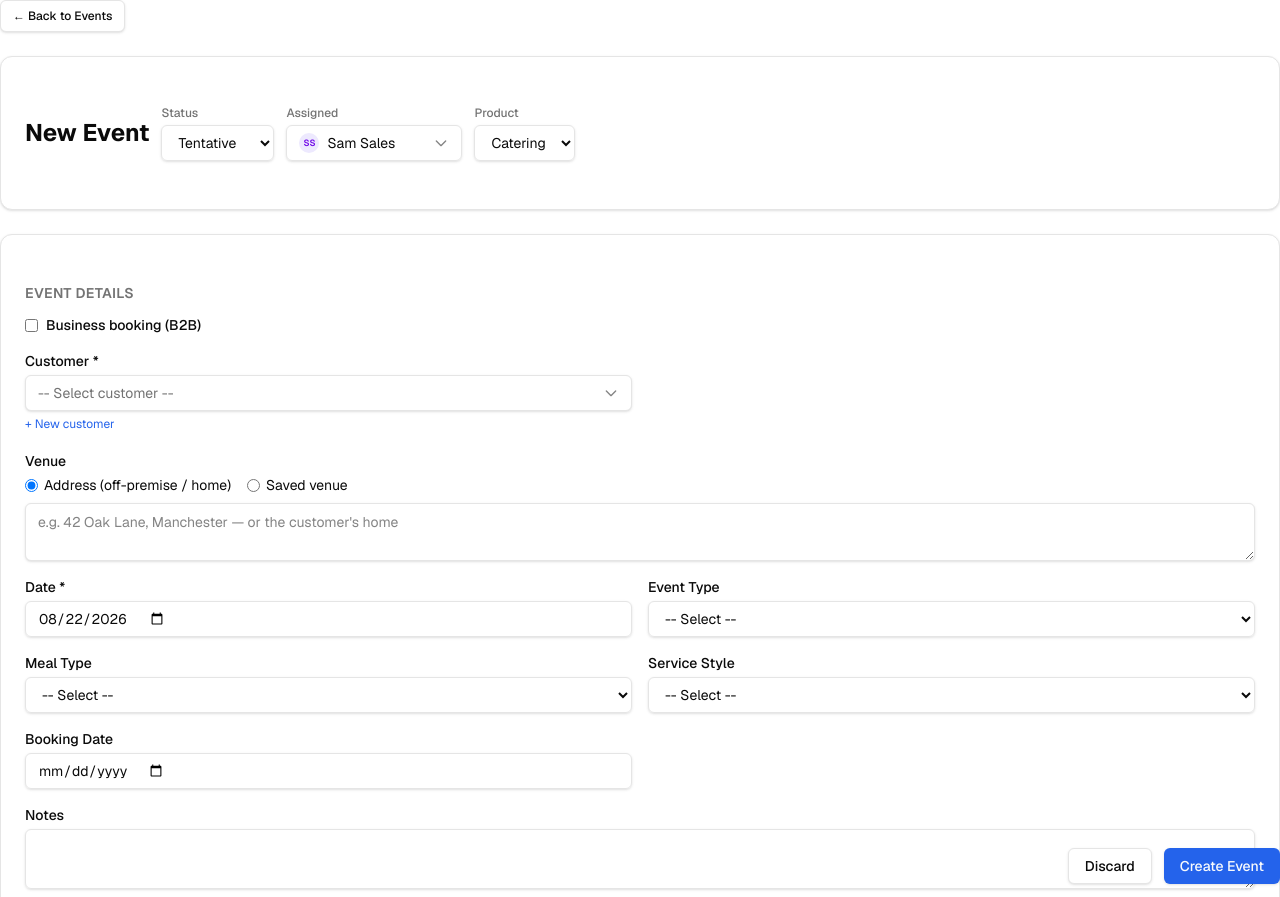
Event create — guest split + anchored timeline reach the payload › refuses to create an event with no customer
Click the button "Create Event" at (1222,866), box [1164,848,1279,884]
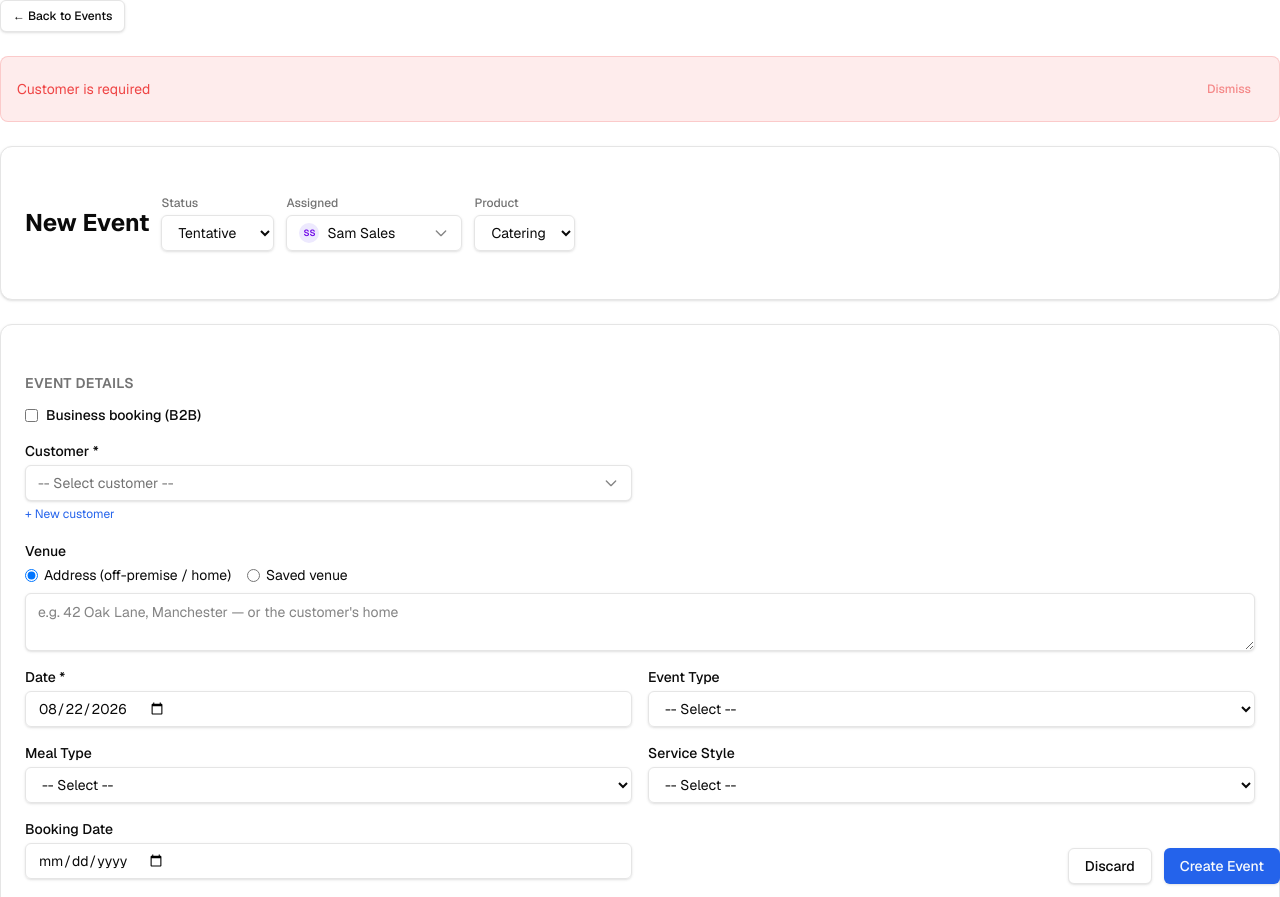
Expected: the text "Customer is required" is shown, [17,79,150,99]
